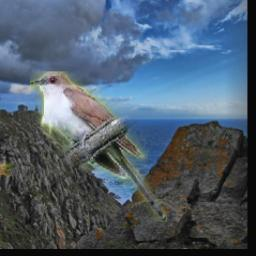Cuckoo: (30, 71, 167, 222), (0, 153, 24, 177)
